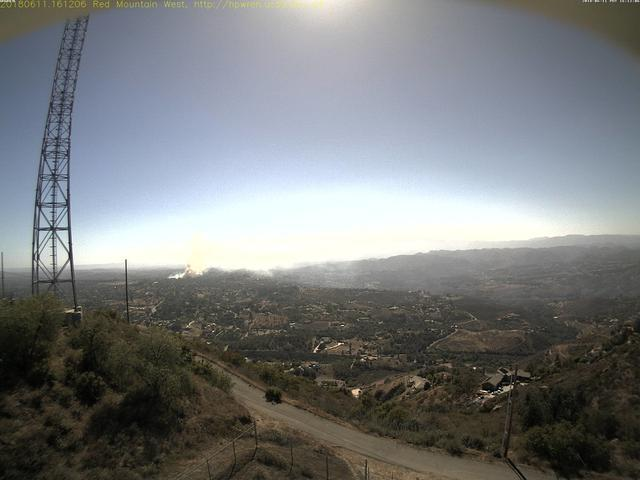smoke: (165, 250, 359, 283)
